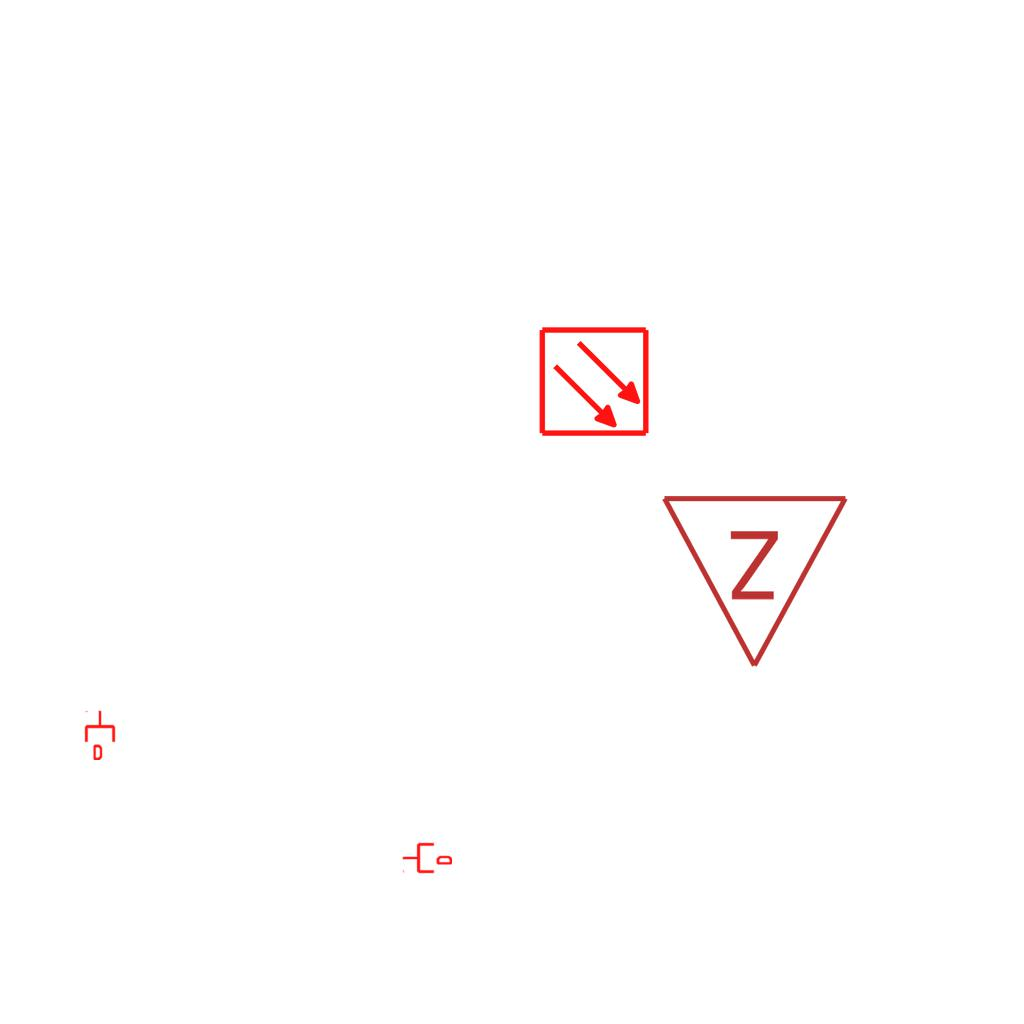Datenanschluss_einfach: (83, 710, 117, 760), (402, 841, 452, 875)
RMO_Rauchmelder_optischer: (538, 325, 651, 438)
Zimmersignalleuchte: (659, 481, 855, 681)
